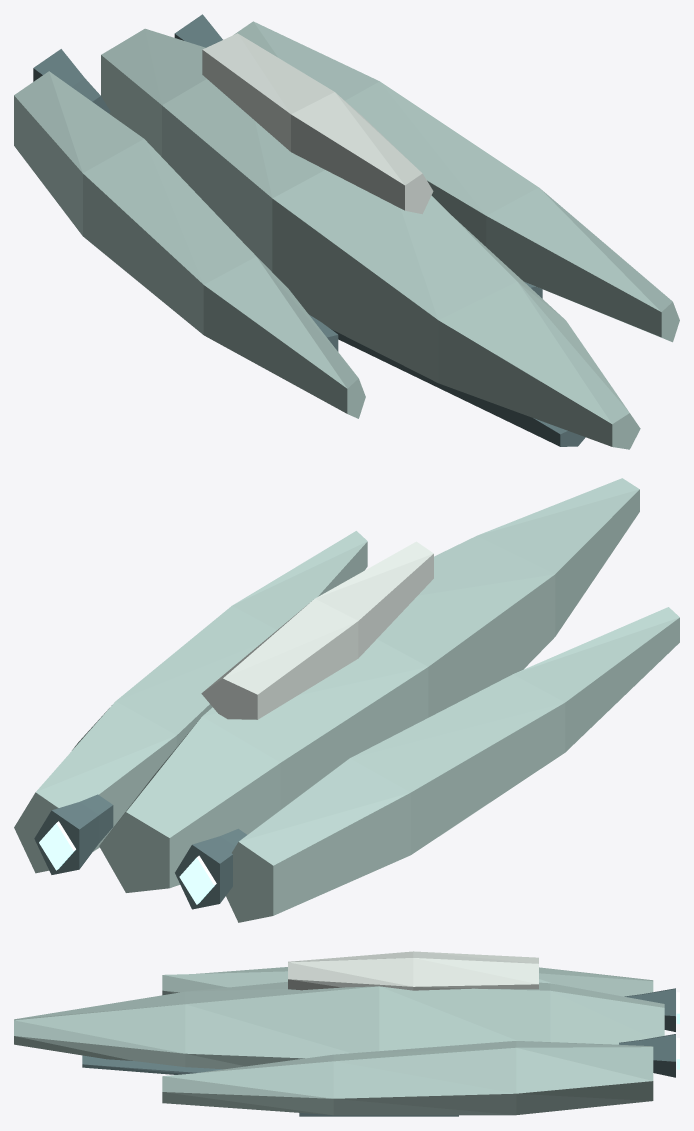
The picture shows the model from 3 angles, top to bottom: view 1: azimuth 30°, elevation 25°; view 2: azimuth 150°, elevation 25°; view 3: azimuth 270°, elevation 25°; orthographic projection. The views are drawn at different scales.
Bounding box in the file's own units: 7.62 × 3.92 × 18.08.
